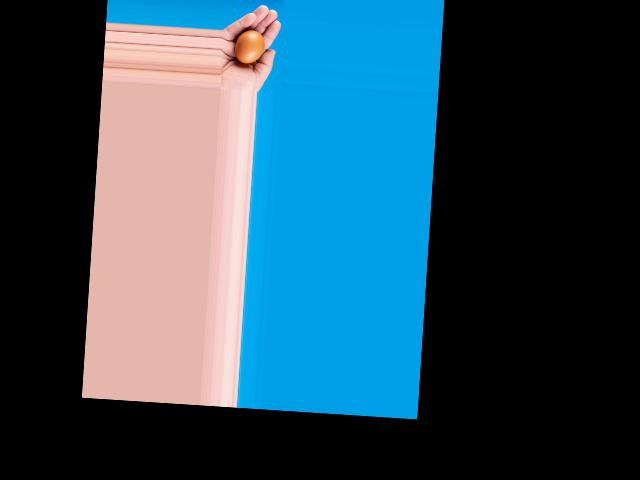egg: (234, 28, 265, 64)
